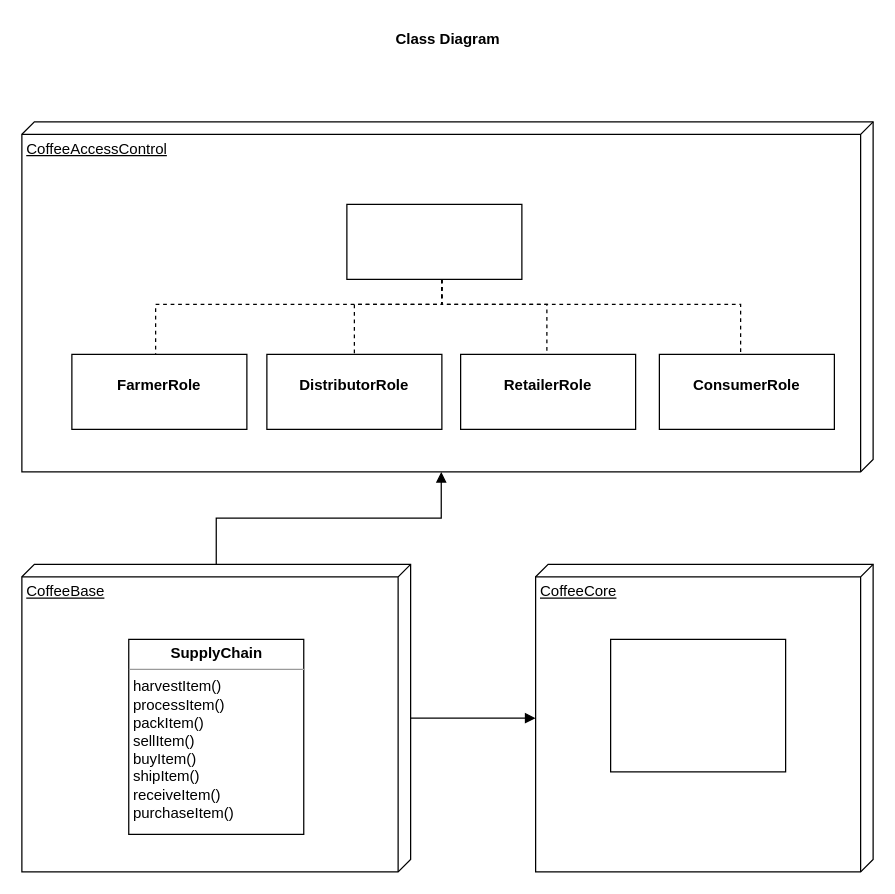
Some shapes in this 895 by 894 pixel diagram are drawn without their labels. Each missing label, with the centre of its shape:
Ownable owner() isOwner() onlyOwner() renounceOwnership() transferOwnership(): pixel 697 705
Roles: pixel 434 241
